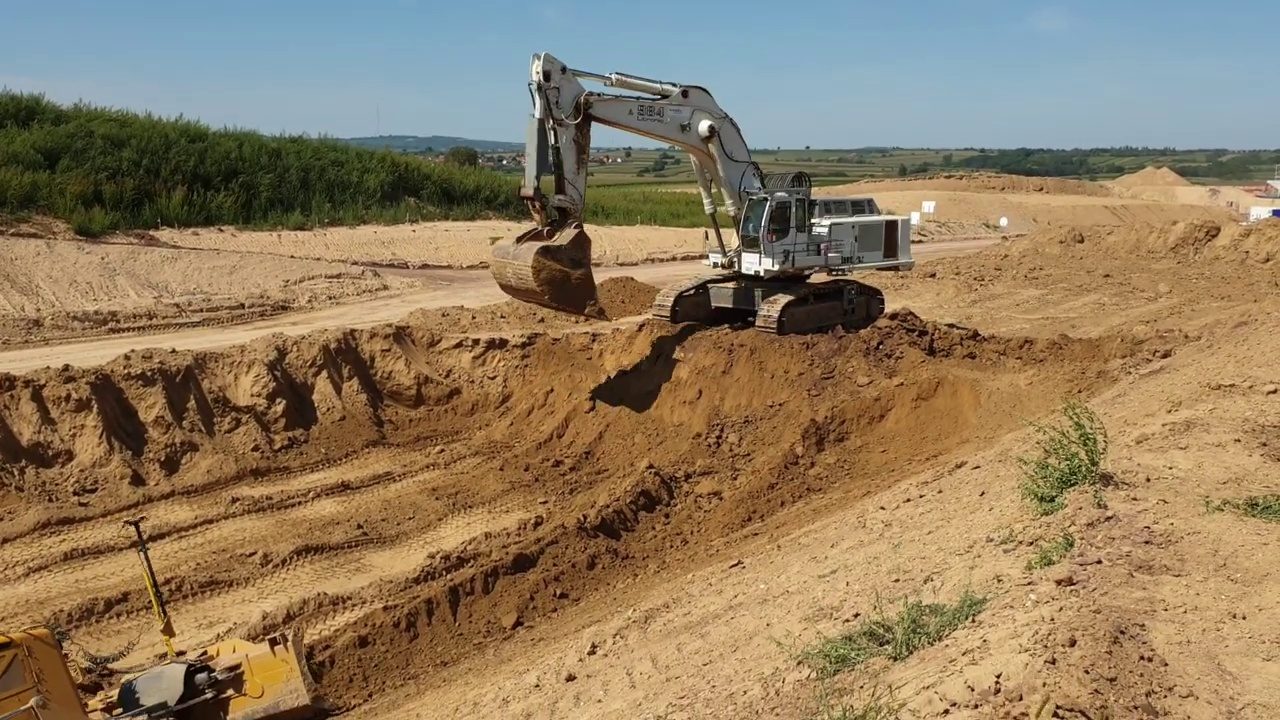bulldozer: (2, 512, 326, 720)
excavator: (490, 45, 916, 343)
